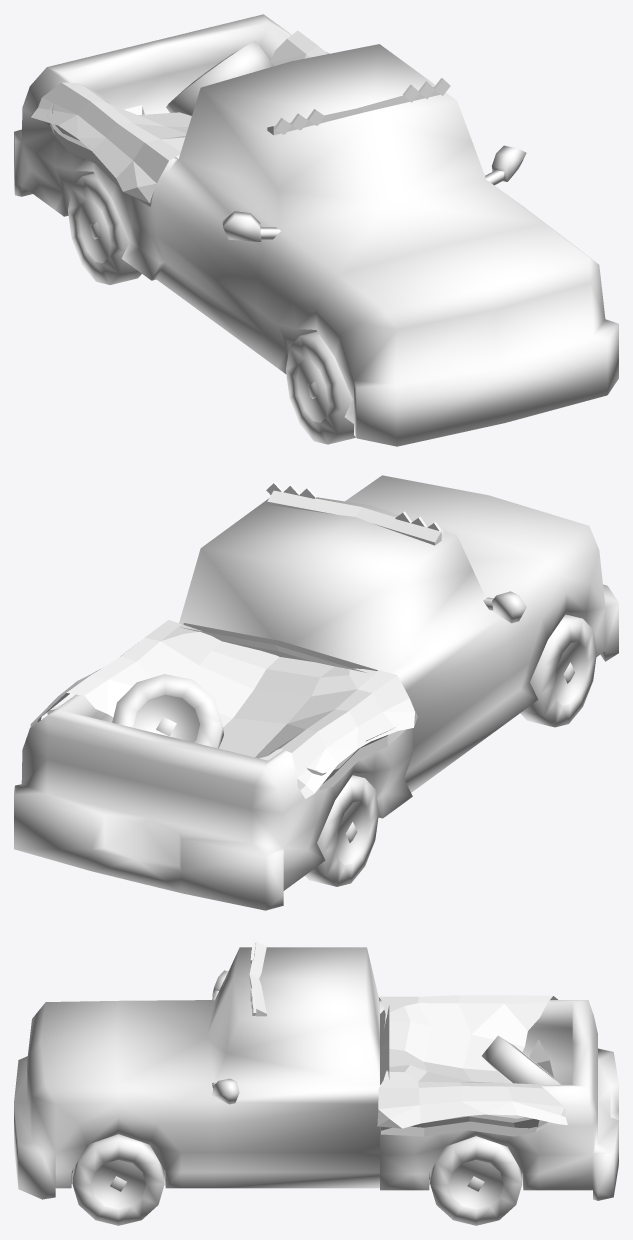
The model's file is pickupTruck.glb.
3 renders of one model, top to bottom at view 1: azimuth 30°, elevation 25°; view 2: azimuth 150°, elevation 25°; view 3: azimuth 270°, elevation 25°, orthographic. The views are drawn at different scales.
Visible parts, largest first — view 1: pickup_Truck, pickup_Truck_tarp; view 2: pickup_Truck, pickup_Truck_tarp; view 3: pickup_Truck, pickup_Truck_tarp.
Boxes of the visible parts, x1,y1,x2,y2 form: pickup_Truck: (14,14,618,446); pickup_Truck_tarp: (30,30,329,206); pickup_Truck: (14,475,618,910); pickup_Truck_tarp: (30,620,417,798); pickup_Truck: (14,939,618,1225); pickup_Truck_tarp: (377,995,567,1136).
Bounding box in the file's own units: 2.68 × 2.13 × 5.63.
4 materials, 4 textured.
